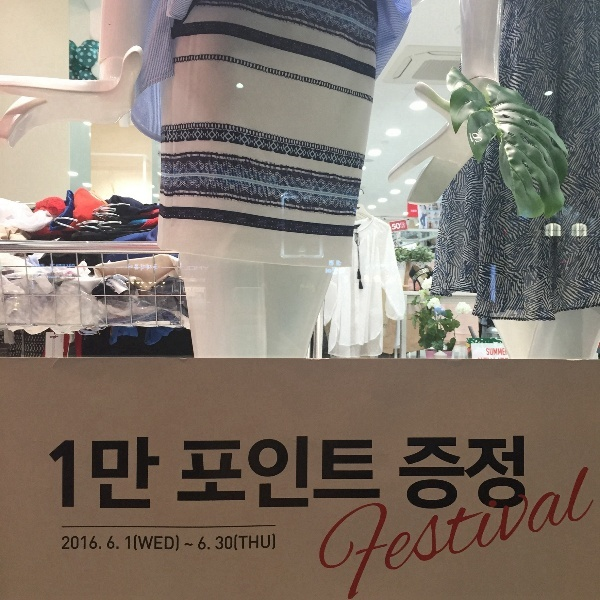text: (321, 460, 336, 593), (337, 460, 352, 593), (353, 460, 368, 593), (369, 460, 384, 593), (385, 460, 400, 593), (401, 460, 416, 593), (417, 460, 432, 593), (433, 460, 448, 593), (449, 460, 464, 593), (465, 460, 480, 593), (481, 460, 496, 593), (497, 460, 512, 593), (513, 460, 528, 593), (529, 460, 544, 593), (545, 460, 560, 593), (561, 460, 576, 593), (577, 460, 592, 593), (306, 460, 320, 593), (49, 433, 64, 522), (65, 433, 80, 522), (81, 433, 96, 522), (97, 433, 112, 522), (113, 433, 128, 522), (129, 433, 144, 522), (145, 433, 160, 522), (401, 429, 416, 512), (417, 429, 432, 512), (433, 429, 448, 512), (449, 429, 464, 512), (465, 429, 480, 512), (481, 429, 496, 512), (497, 429, 512, 512), (513, 429, 528, 512), (177, 433, 192, 514), (193, 433, 208, 514), (209, 433, 224, 514), (225, 433, 240, 514), (241, 433, 256, 514), (257, 433, 272, 514), (273, 433, 288, 514), (289, 433, 304, 514), (305, 433, 320, 514), (321, 433, 336, 514), (337, 433, 352, 514), (353, 433, 368, 514), (369, 433, 384, 514), (209, 527, 224, 564), (145, 527, 160, 563), (161, 527, 176, 563), (593, 460, 597, 593), (241, 527, 256, 562), (257, 527, 272, 562), (179, 529, 192, 568), (43, 433, 48, 522), (161, 433, 166, 522), (65, 530, 80, 557), (81, 530, 96, 557), (97, 530, 112, 557), (113, 530, 128, 557), (198, 527, 208, 564), (225, 527, 235, 564), (134, 527, 144, 563), (193, 529, 199, 568), (273, 527, 279, 562), (57, 530, 64, 557), (177, 527, 182, 563), (235, 527, 240, 562), (529, 429, 531, 512), (385, 433, 387, 514), (129, 530, 135, 557), (391, 221, 400, 232), (485, 348, 496, 357), (497, 348, 506, 357), (401, 225, 416, 229), (326, 268, 336, 274), (329, 259, 336, 267), (401, 221, 406, 232), (337, 259, 342, 267), (410, 208, 416, 214), (417, 208, 418, 214)
